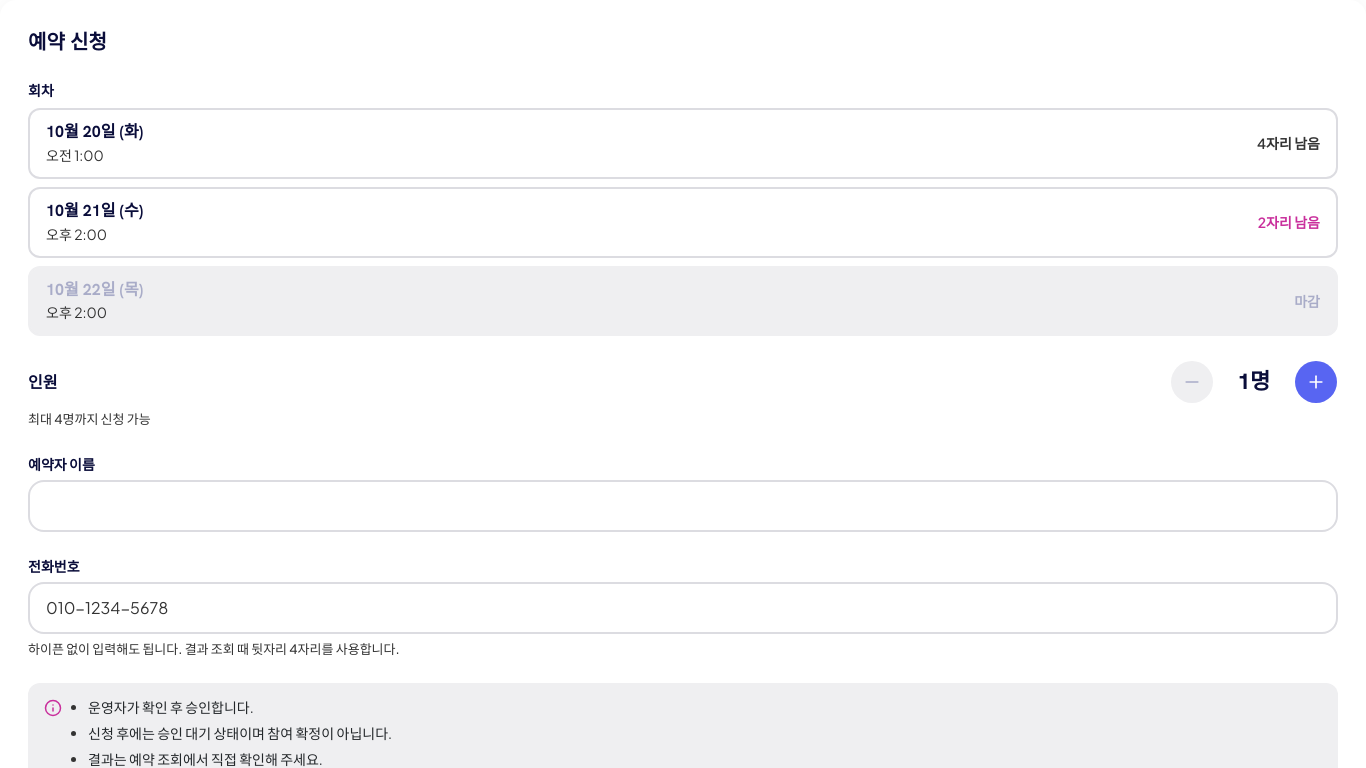
Test: BookingForm › R-12: 인원은 1~4명만 고르고 이름·전화번호에 라벨과 자동완성을 제공한다
Check: the text "1명" is shown, box [1238,367,1270,396]
Check: the text "최대 4명까지 신청 가능" is shown, box [28,411,151,427]
Click the button named "인원 늘리기" at (1316, 382), box [1294,360,1338,404]
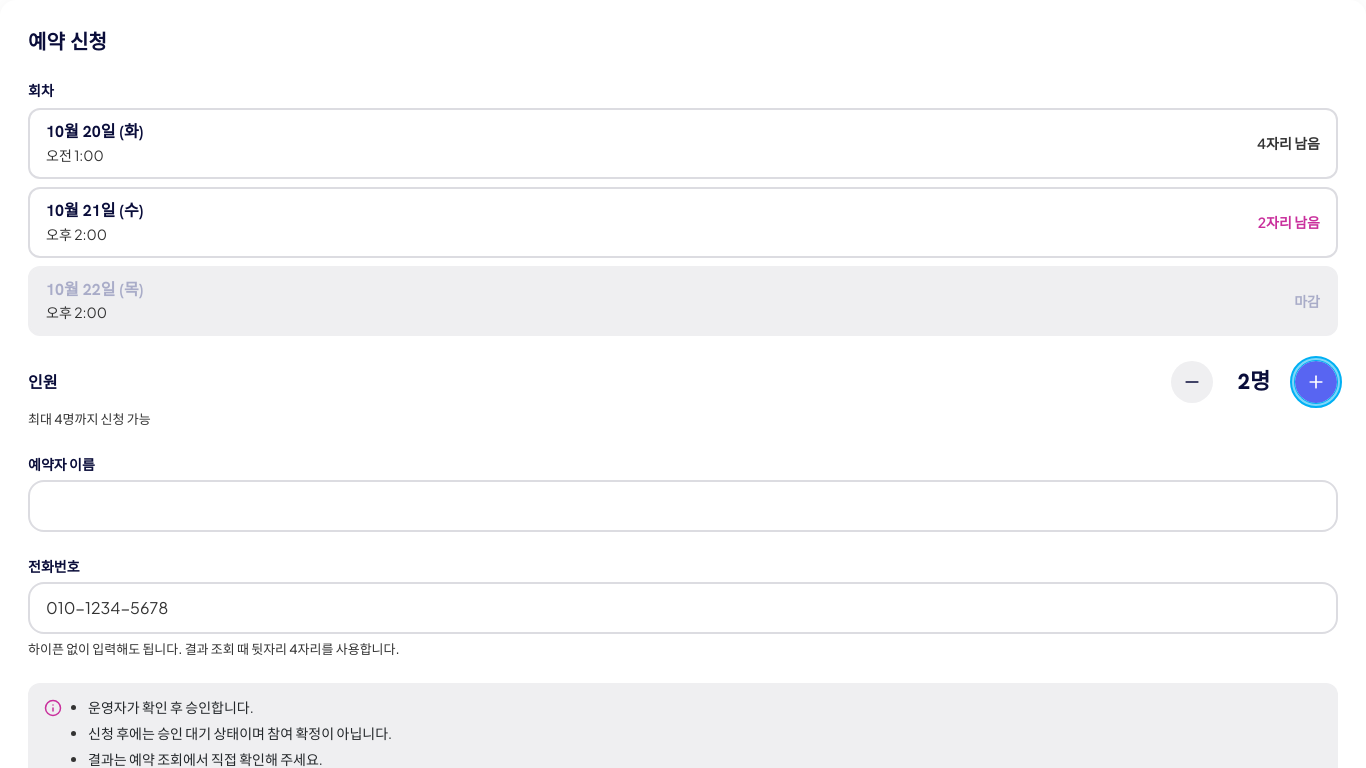
Click the button named "인원 늘리기" at (1316, 382), box [1294,360,1338,404]
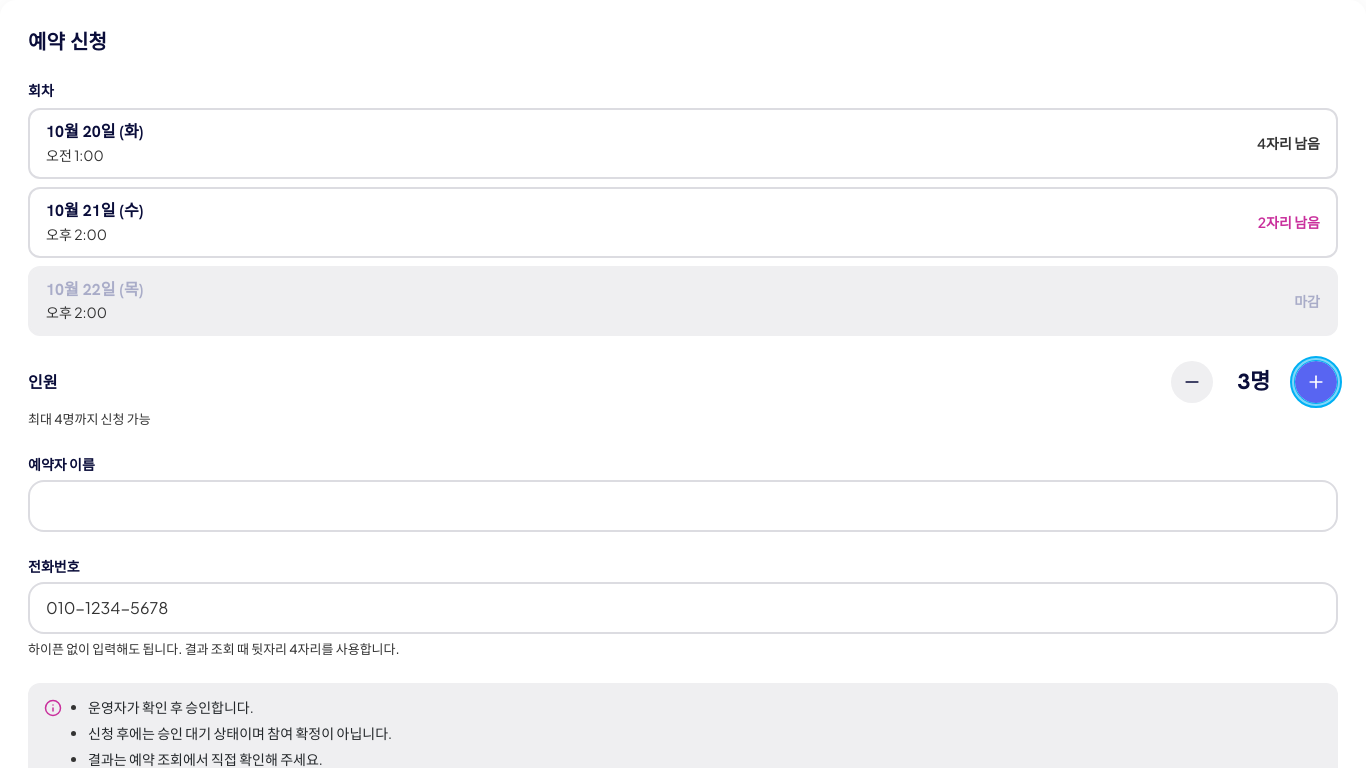
Click the button named "인원 늘리기" at (1316, 382), box [1294,360,1338,404]
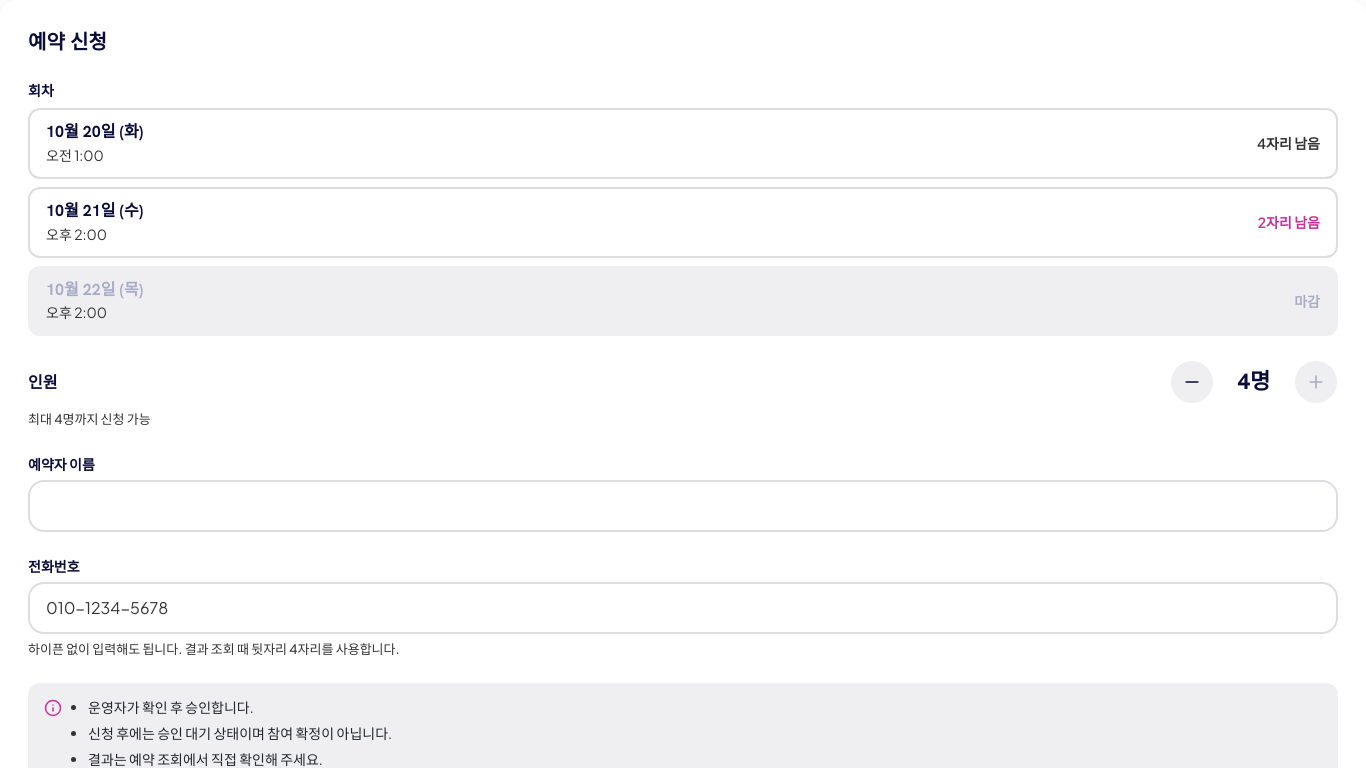
Check: the text "4명" is shown, box [1238,367,1270,396]
Check: the button named "인원 늘리기" is disabled, box [1294,360,1338,404]
